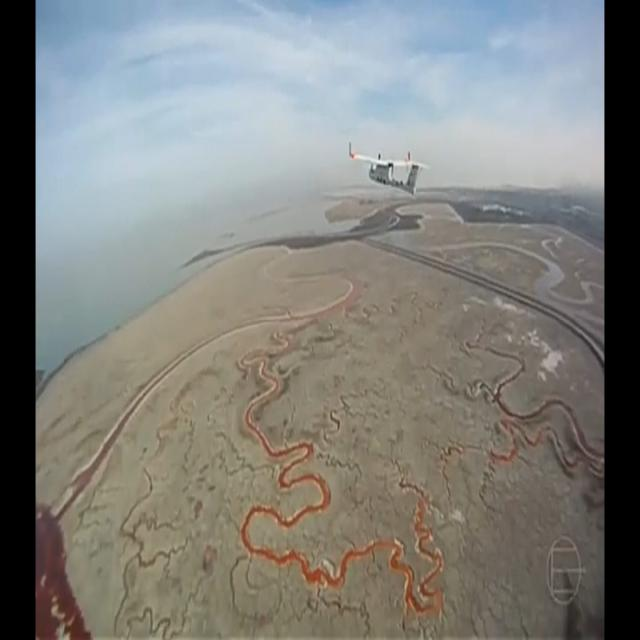iha: (381, 140, 398, 198)
